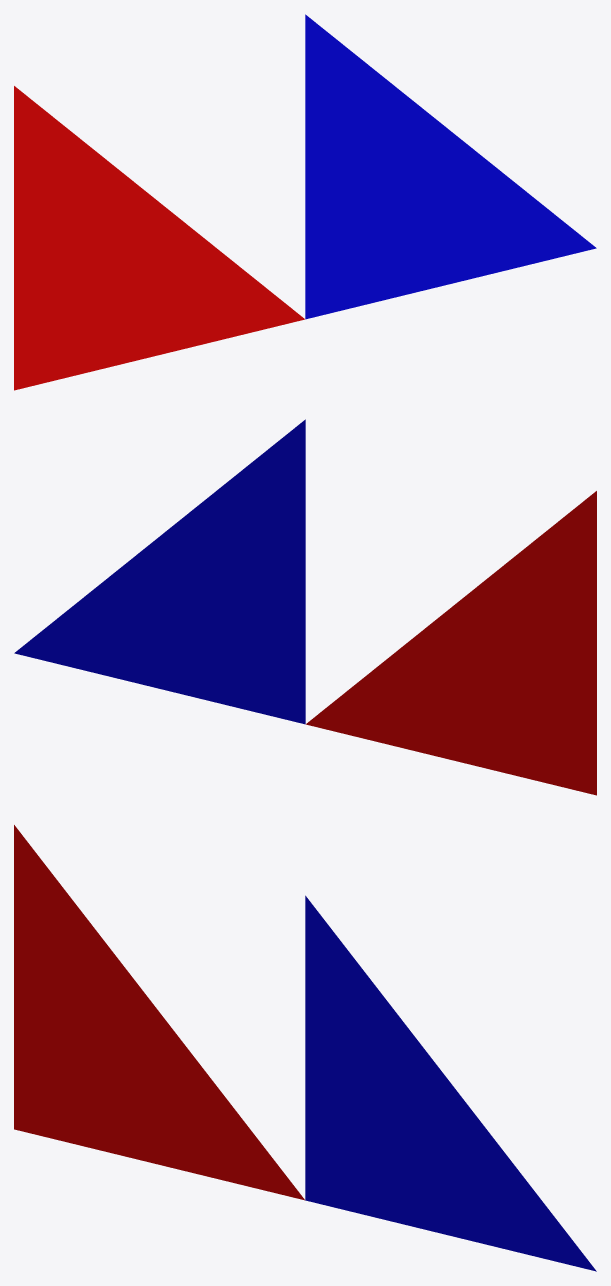
Rendered from two-textures.glb.
3 renders of one model, top to bottom at view 1: azimuth 30°, elevation 25°; view 2: azimuth 150°, elevation 25°; view 3: azimuth 330°, elevation 25°, orthographic.
Size of the model in its own units: 2 by 1 by 0.
Materials: 2 (2 with a texture image).
